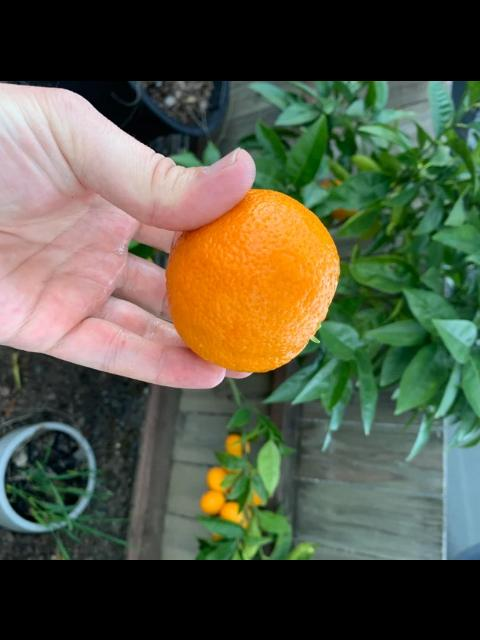Oranges: (168, 189, 338, 371)
